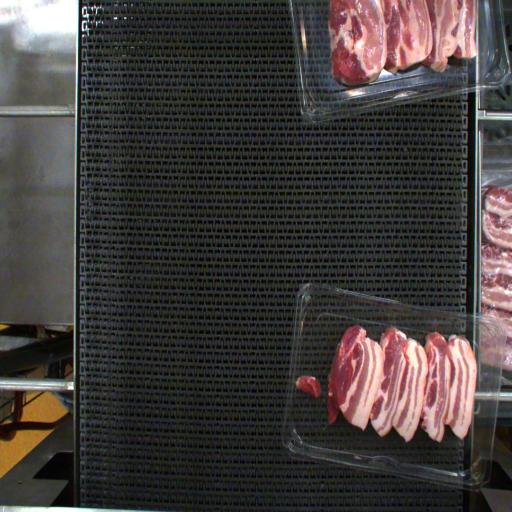loose-meat: (298, 372, 324, 399)
